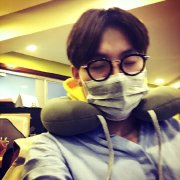face_mask: (83, 26, 145, 119)
